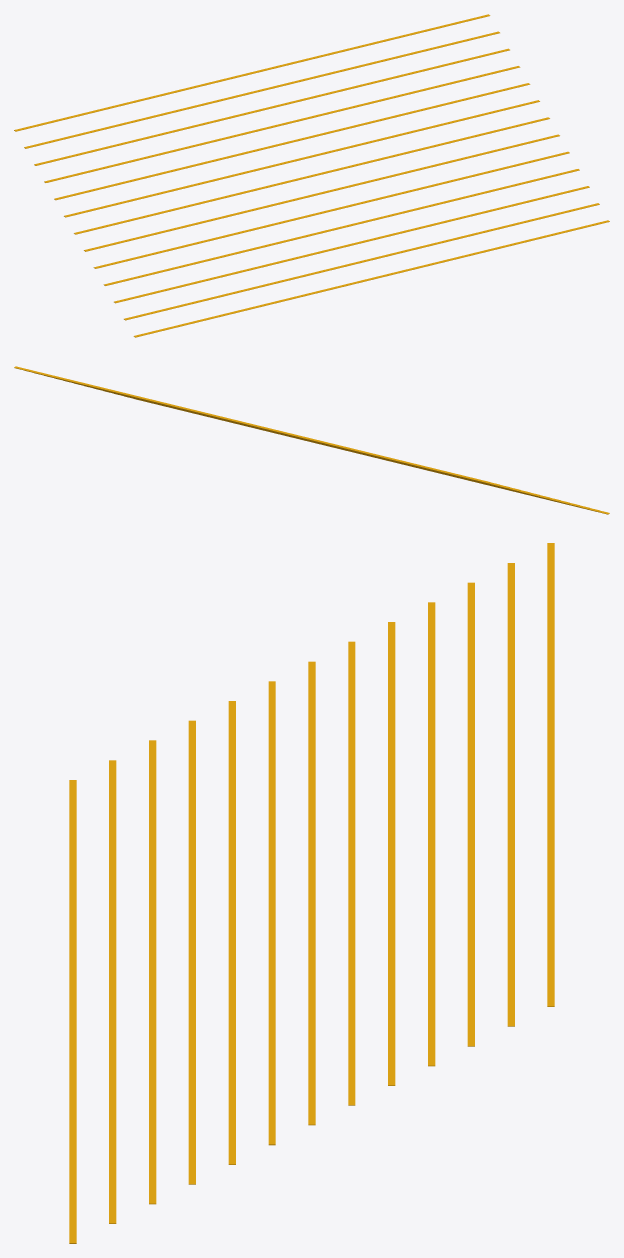
File: gteki_ik_stair_n13_r165_t302_w8323_nosing.glb
3 views of the same model, one above another, from view 1: azimuth 30°, elevation 25°; view 2: azimuth 150°, elevation 25°; view 3: azimuth 270°, elevation 25° (orthographic). The views are drawn at different scales.
Visible parts, largest first — view 1: VIS_body; view 2: VIS_body; view 3: VIS_body.
Boxes of the visible parts, x1=… form: VIS_body: x1=14, y1=14, x2=609, y2=337; VIS_body: x1=14, y1=366, x2=609, y2=514; VIS_body: x1=69, y1=543, x2=554, y2=1243.
Size of the model in its own units: 8.31 by 1.99 by 3.68.
1 material, 1 textured.
